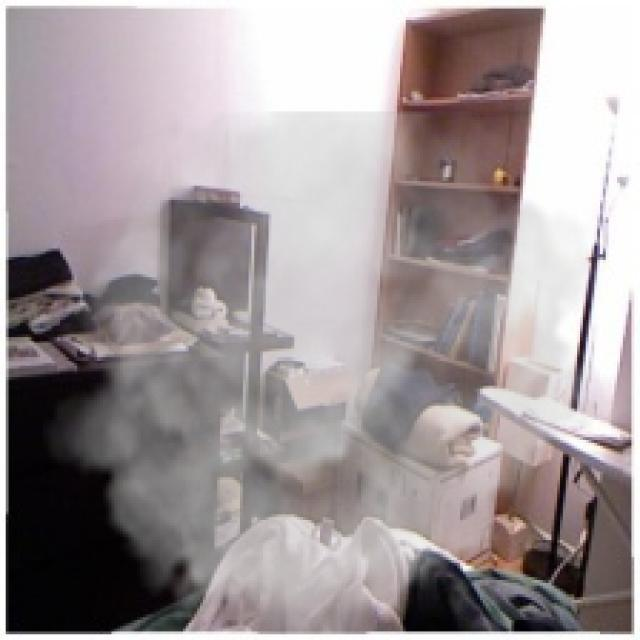Smoke: (43, 111, 612, 634)
